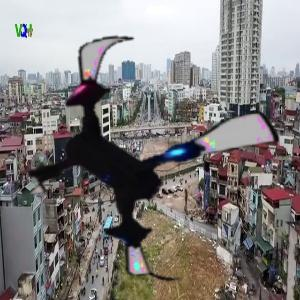drone: (14, 22, 281, 289)
